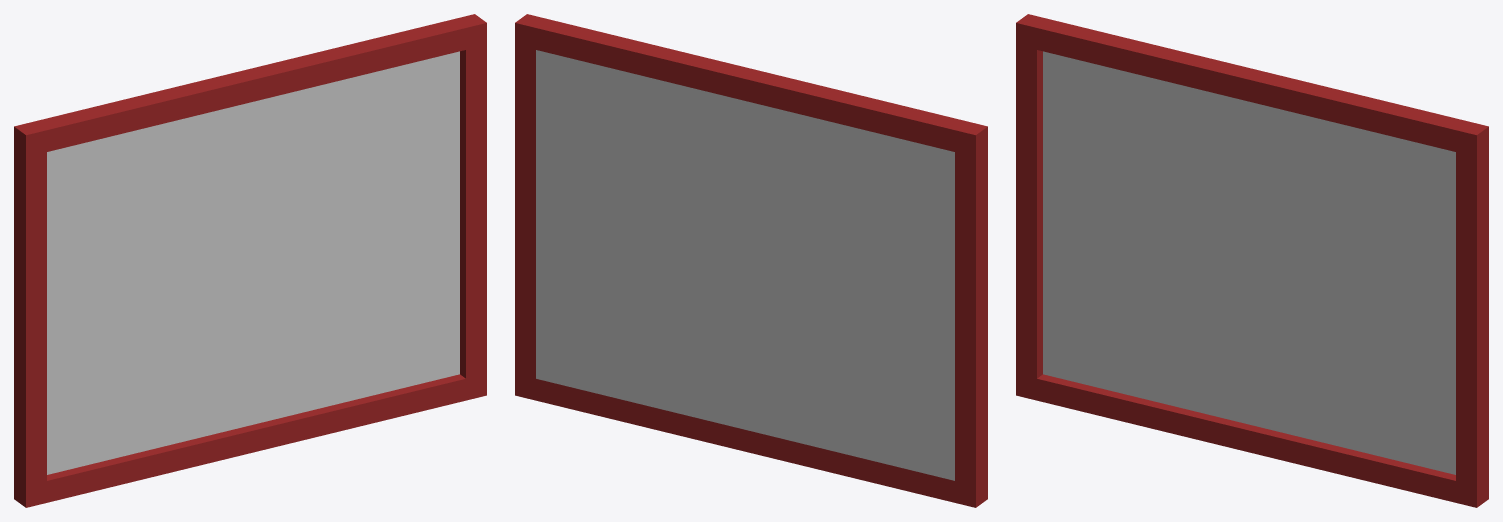
Rendered from SM_Cuadro.glb.
The picture shows the model from 3 angles, left to right: view 1: azimuth 30°, elevation 25°; view 2: azimuth 150°, elevation 25°; view 3: azimuth 330°, elevation 25°; orthographic projection.
Parts seen in each view (by area): view 1: SM_Img, SM_Sup, SM_Inf, SM_Izq, SM_Der; view 2: SM_Img, SM_Sup, SM_Izq, SM_Inf, SM_Der; view 3: SM_Img, SM_Sup, SM_Inf, SM_Der, SM_Izq.
Boxes of the visible parts, bbox=[...] form: SM_Img: bbox=[47, 51, 459, 474]; SM_Sup: bbox=[14, 14, 486, 156]; SM_Inf: bbox=[14, 373, 486, 507]; SM_Izq: bbox=[14, 148, 46, 485]; SM_Der: bbox=[460, 45, 486, 378]; SM_Img: bbox=[536, 50, 954, 480]; SM_Sup: bbox=[515, 14, 987, 156]; SM_Izq: bbox=[955, 148, 987, 485]; SM_Inf: bbox=[515, 373, 987, 507]; SM_Der: bbox=[515, 45, 535, 378]; SM_Img: bbox=[1043, 51, 1455, 474]; SM_Sup: bbox=[1016, 14, 1488, 156]; SM_Inf: bbox=[1016, 373, 1488, 507]; SM_Der: bbox=[1456, 148, 1488, 485]; SM_Izq: bbox=[1016, 45, 1042, 378].
Bounding box in the file's own units: 0.44 × 0.34 × 0.02.
